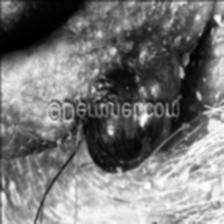Potentially Malignant Skin Tumors: (82, 122, 166, 180)
